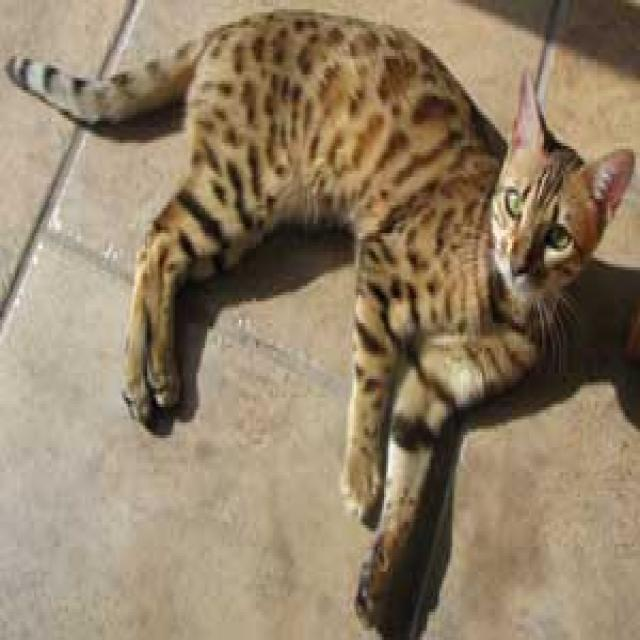Bengal: (485, 77, 622, 298)
